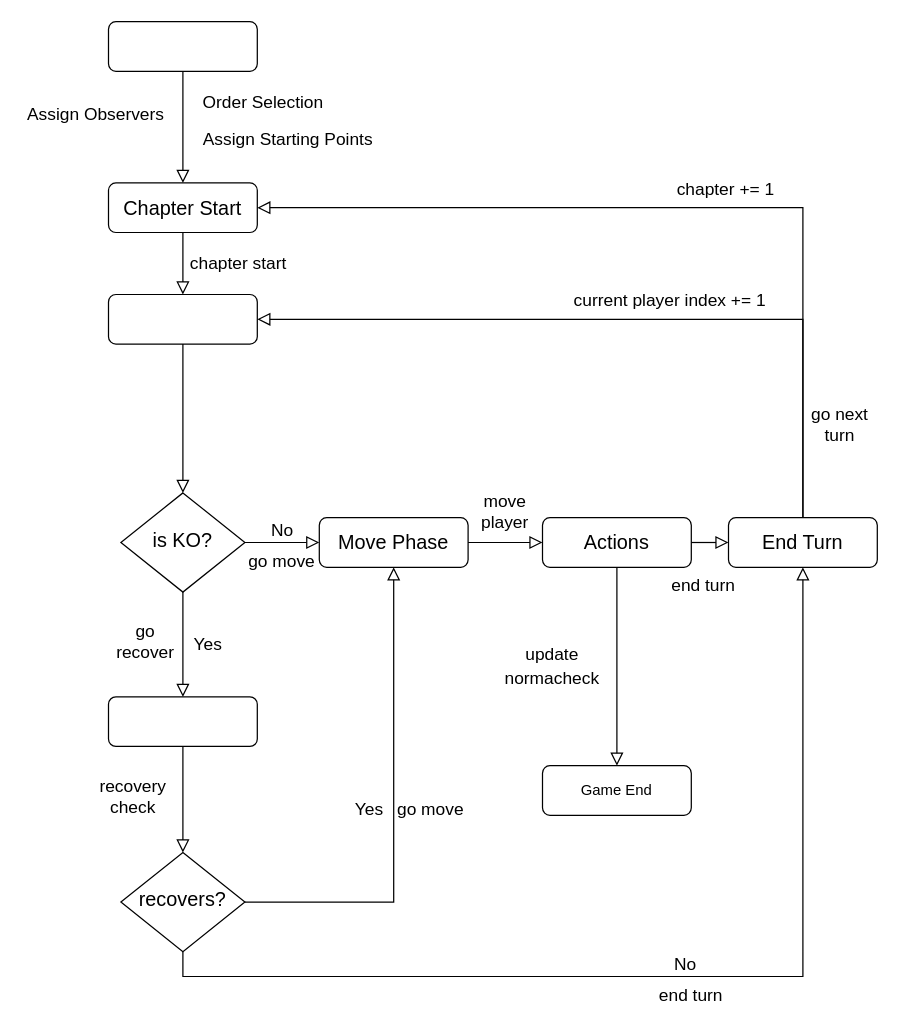
Image size: 899x1035. Some labels were removed from this diagram. The centre of each missing label's shape, as x and y in pixels:
Game Start: pixel 182 45
Player Turn: pixel 182 318
Recovery: pixel 182 721
